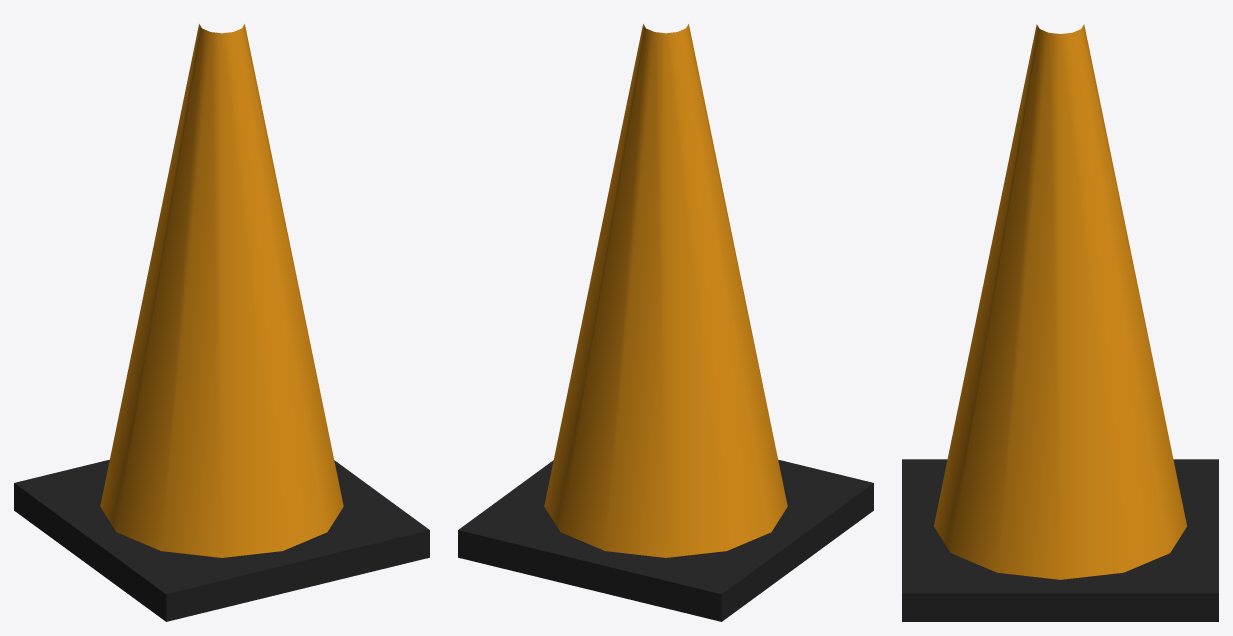
Rendered from traffic-cone.glb.
3 views of the same model, side by side, from view 1: azimuth 30°, elevation 25°; view 2: azimuth 150°, elevation 25°; view 3: azimuth 270°, elevation 25° (orthographic). The views are drawn at different scales.
Bounding box in the file's own units: 0.4 × 0.74 × 0.4.
